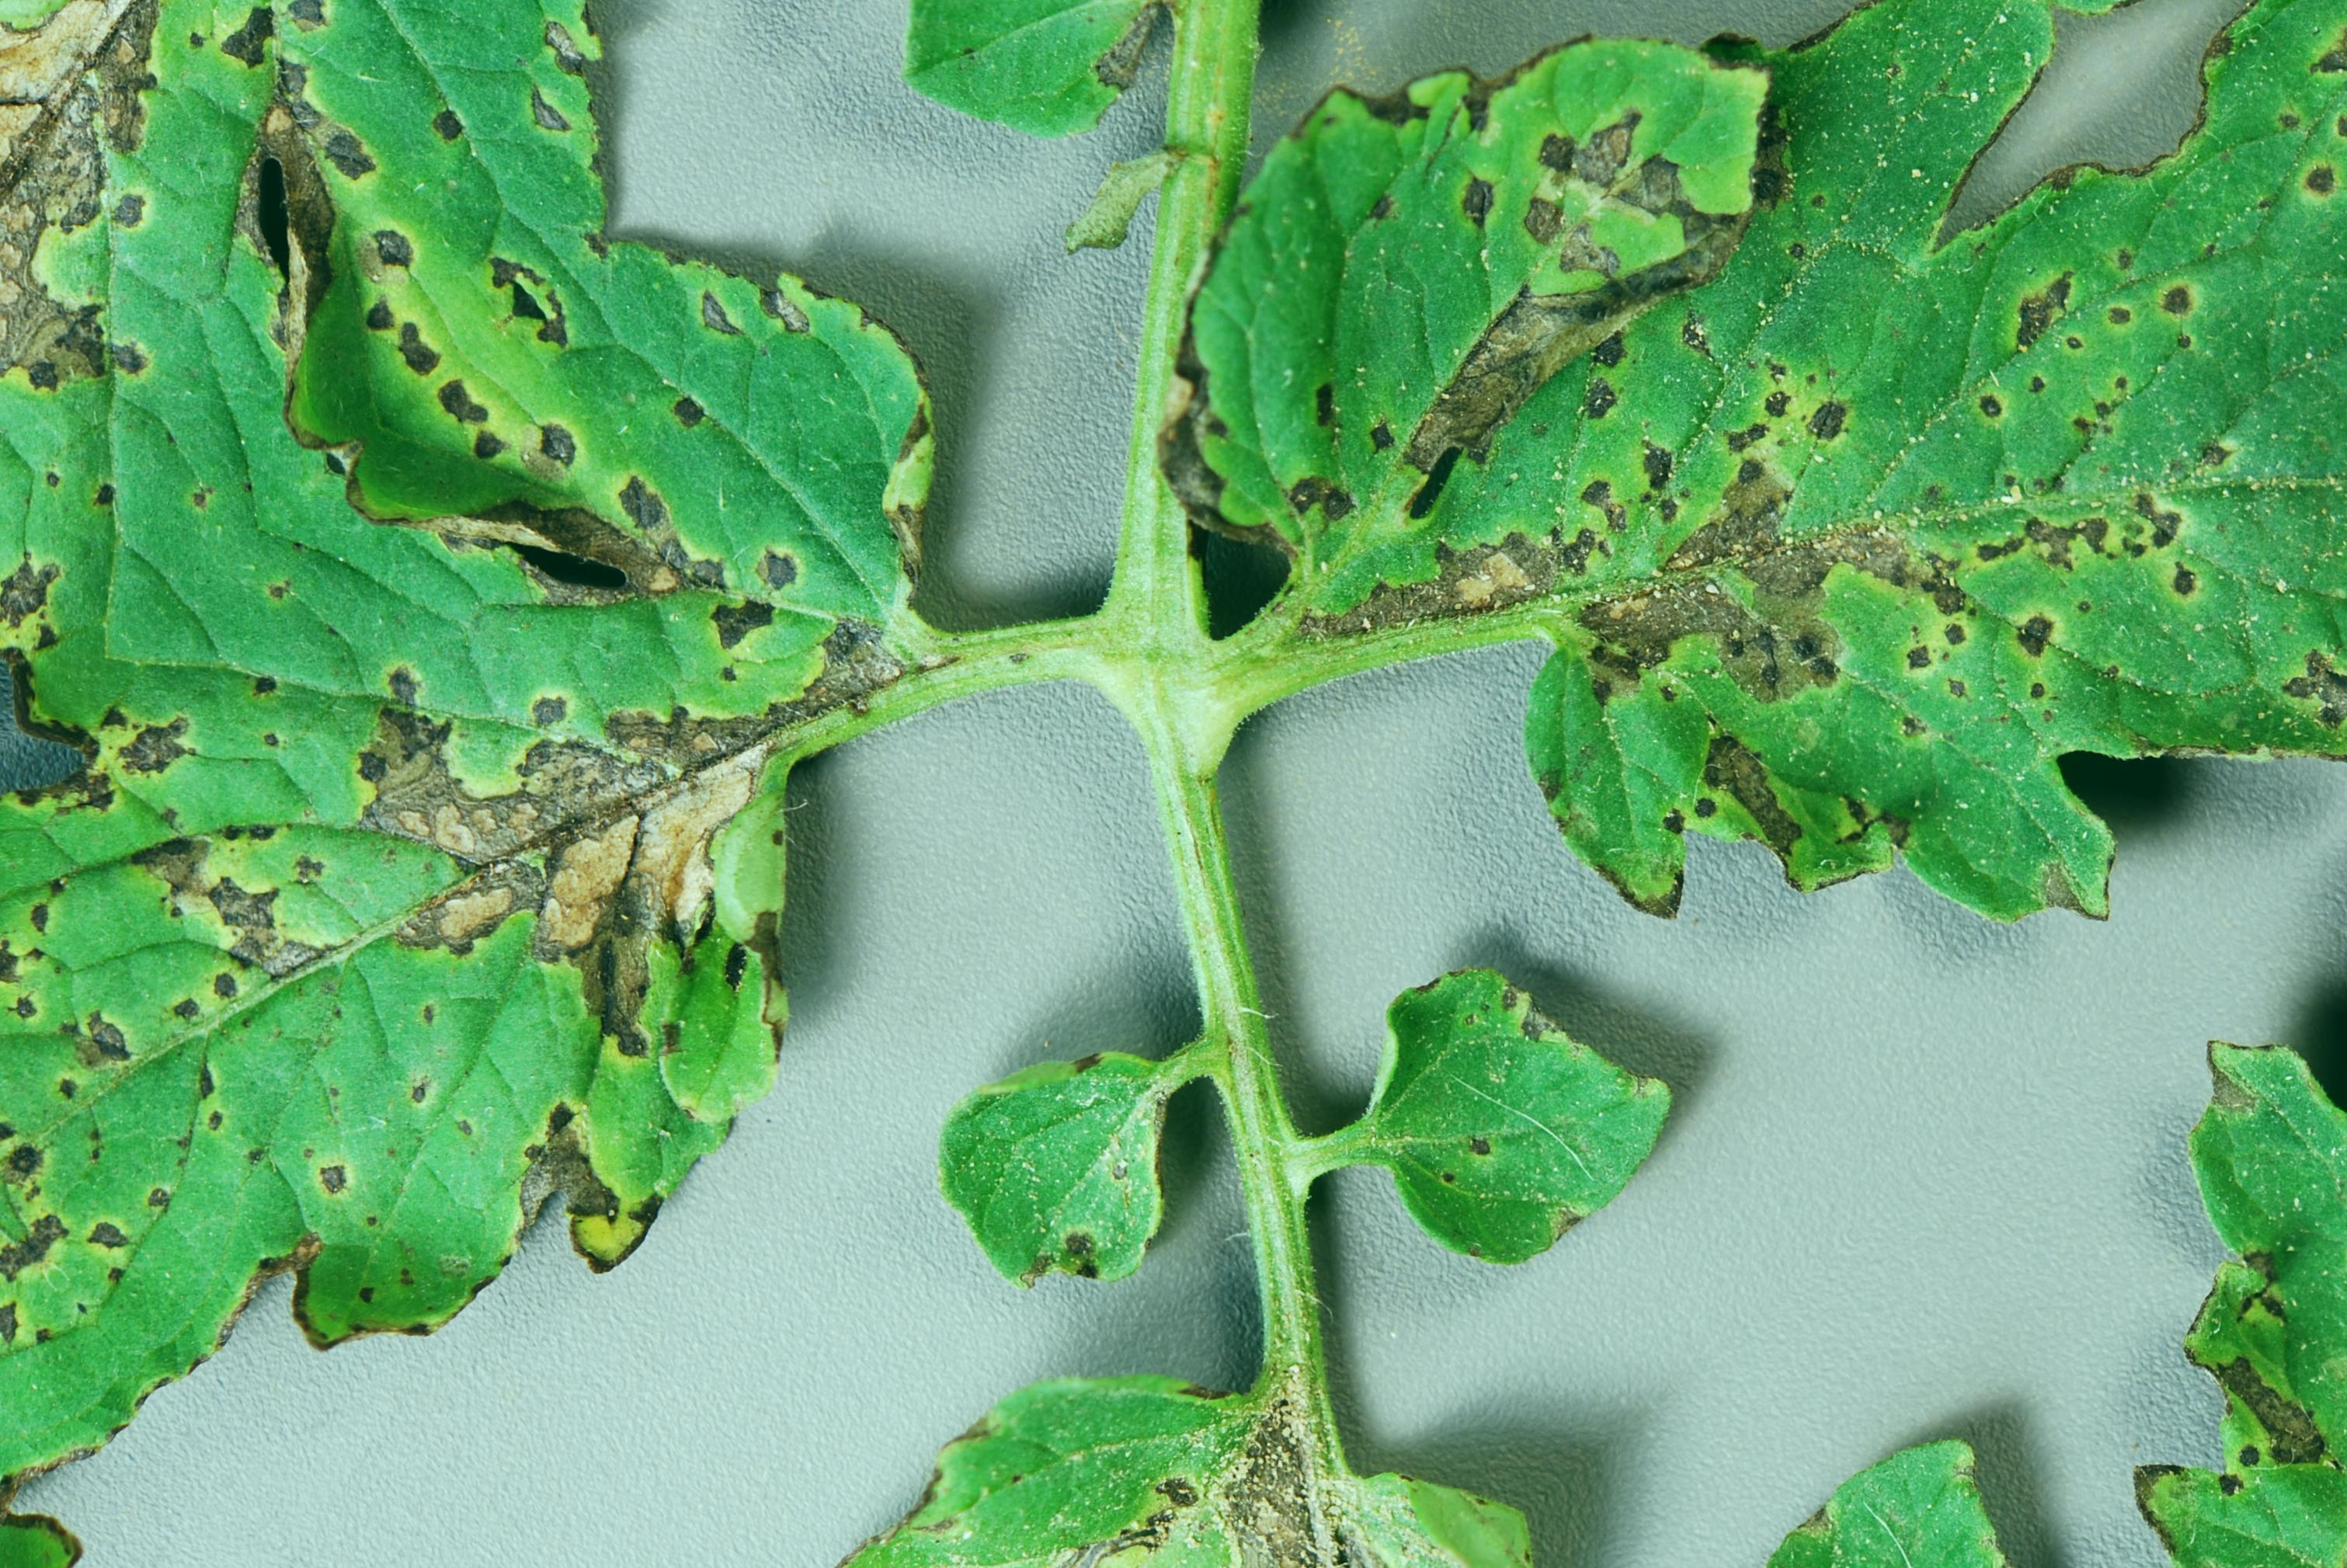Tomato Septoria leaf spot: (0, 103, 1306, 1568), (1180, 0, 2347, 1274), (408, 942, 1638, 1568), (1026, 0, 1922, 691), (1260, 844, 1811, 1384)
